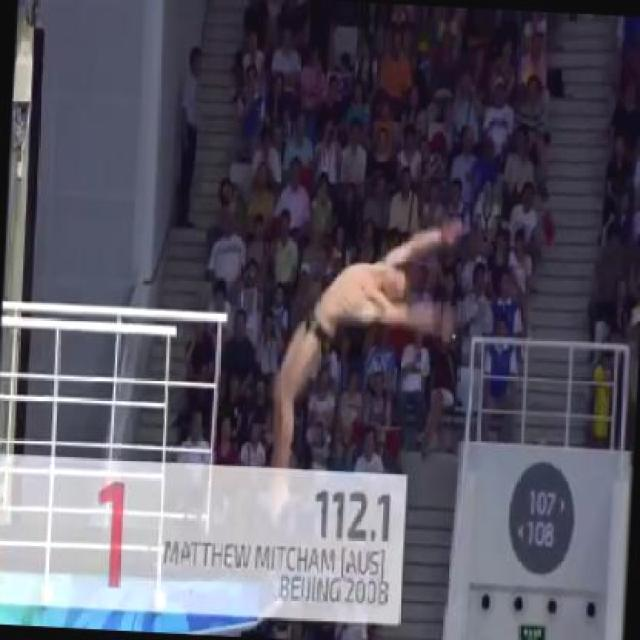non-fight: (270, 209, 448, 471)
